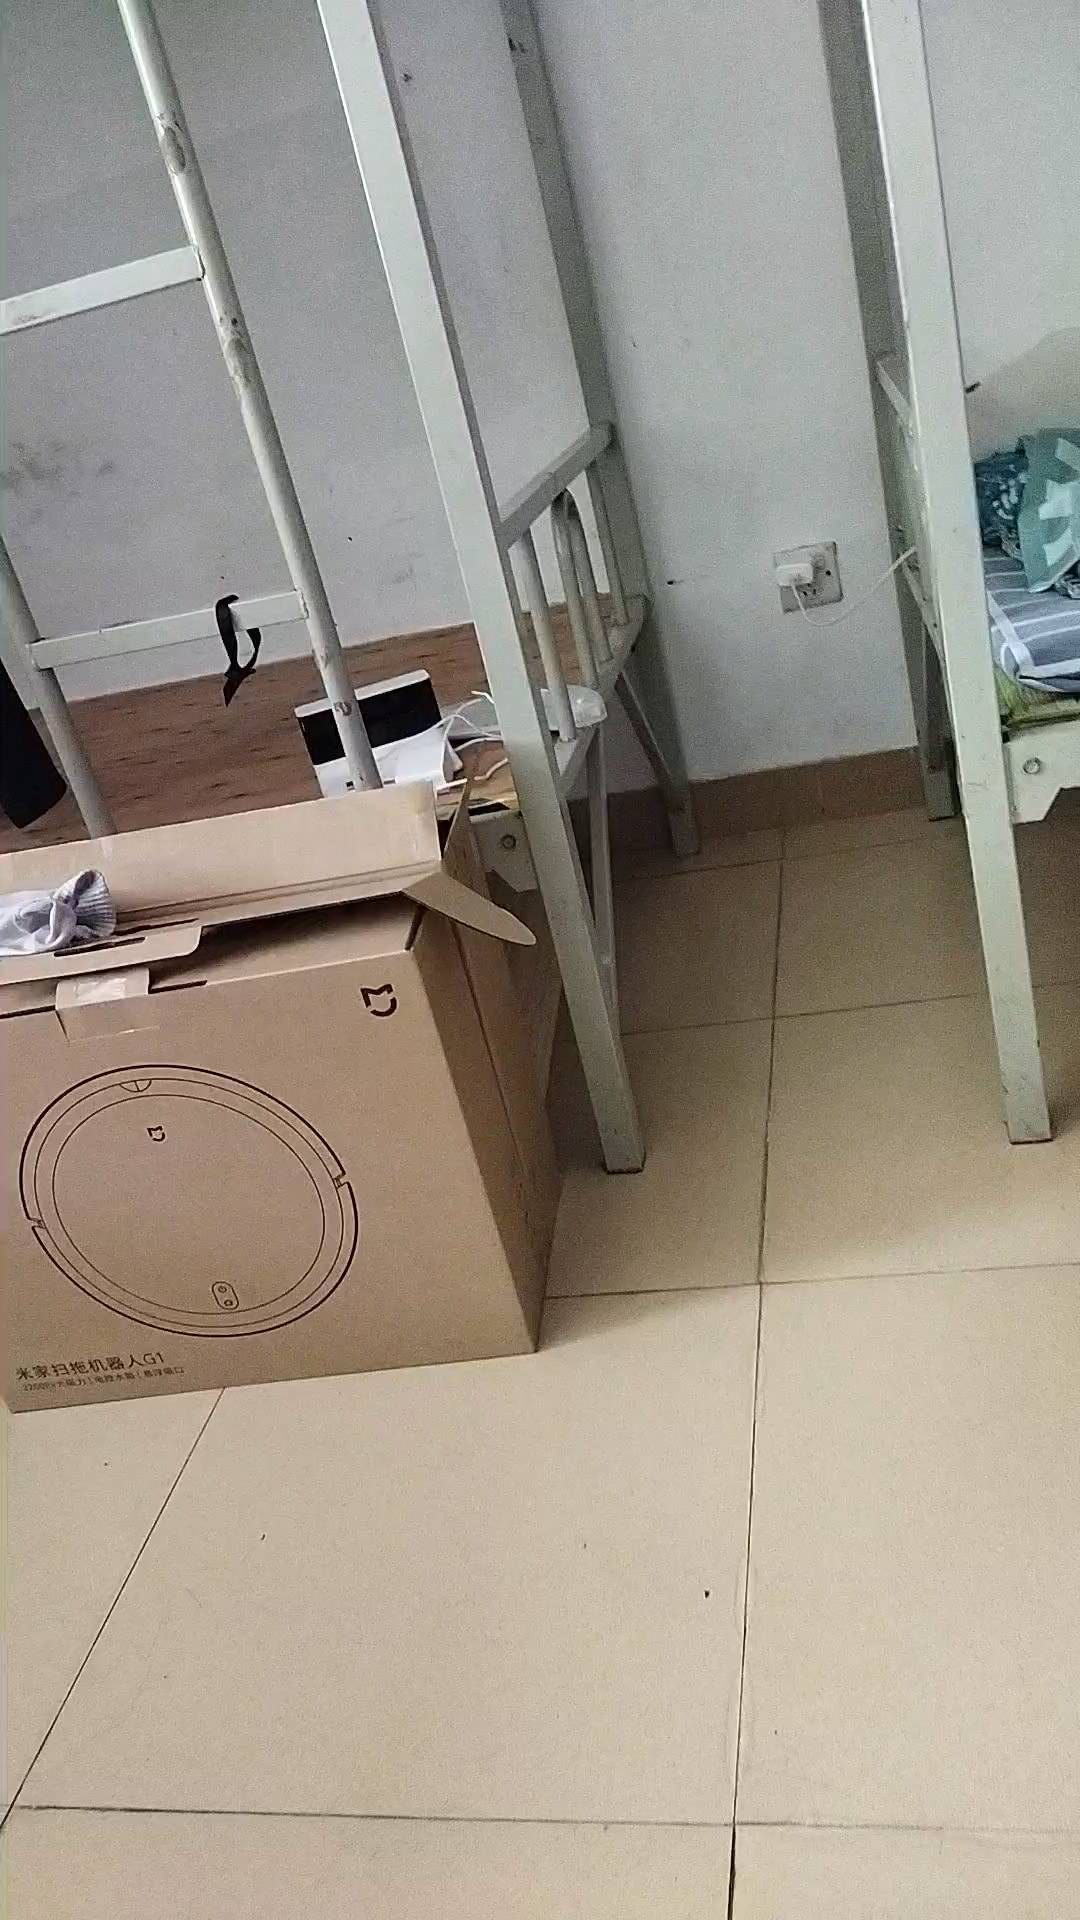recharge seat: (289, 670, 469, 793)
